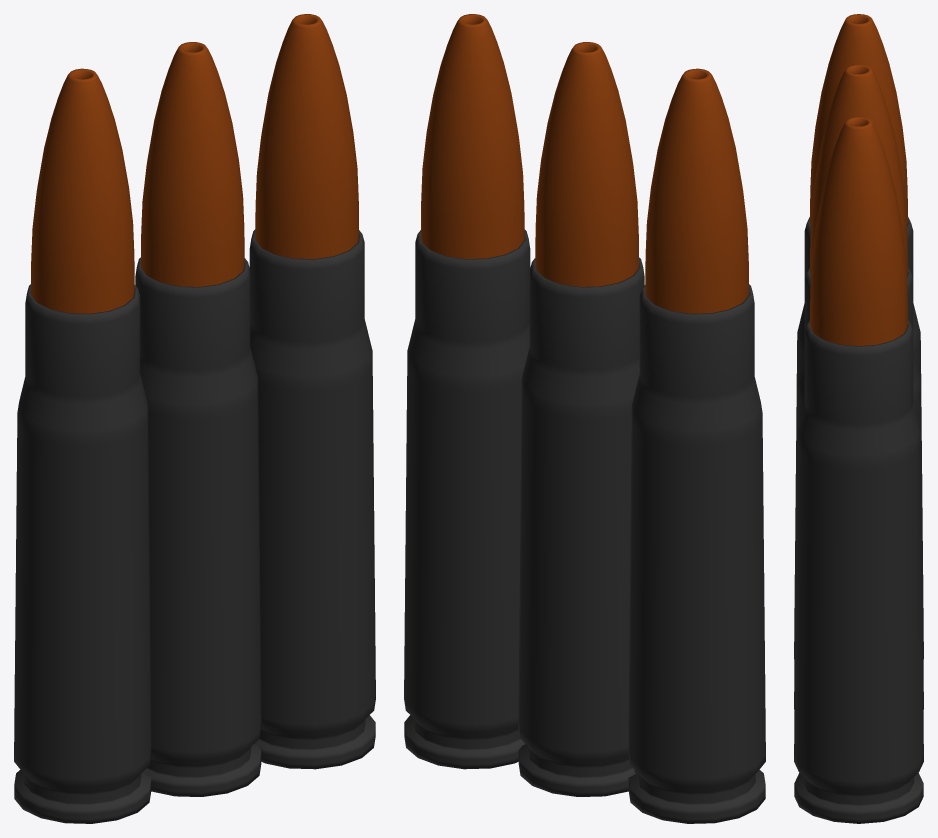
File: Bullet_Pack.fbx
The picture shows the model from 3 angles, left to right: view 1: azimuth 30°, elevation 25°; view 2: azimuth 150°, elevation 25°; view 3: azimuth 270°, elevation 25°; orthographic projection. The views are drawn at different scales.
Visible parts, largest first — view 1: Cylinder.053; view 2: Cylinder.053; view 3: Cylinder.053.
Boxes of the visible parts, x1,y1,x2,y2 form: Cylinder.053: [14, 14, 375, 823]; Cylinder.053: [404, 14, 765, 823]; Cylinder.053: [794, 14, 923, 823].
Bounding box in the file's own units: 302 × 603 × 105.
